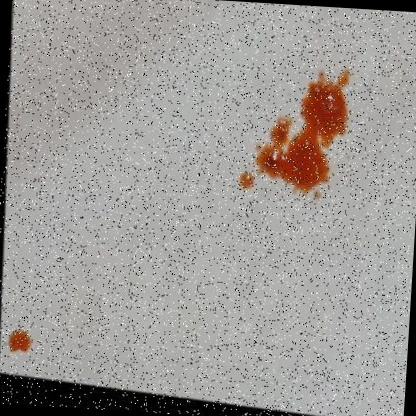kimchi: (234, 65, 355, 208), (5, 322, 30, 358)
